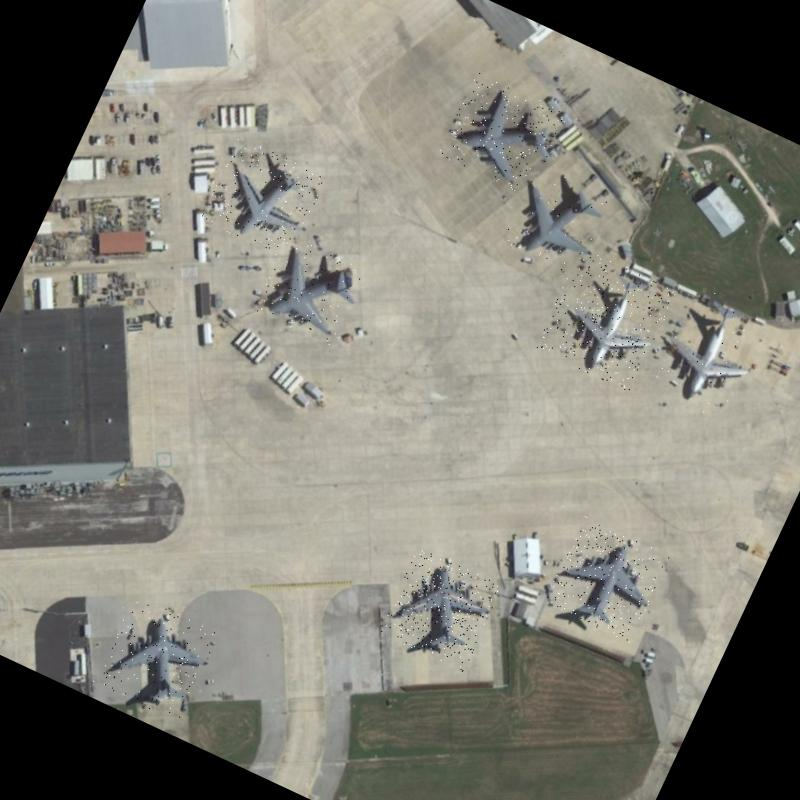A3: (534, 247, 676, 392), (639, 280, 774, 423), (91, 592, 221, 723), (438, 70, 568, 198), (543, 515, 670, 643), (378, 546, 503, 672), (200, 136, 326, 260), (249, 230, 372, 350), (497, 161, 618, 279)
